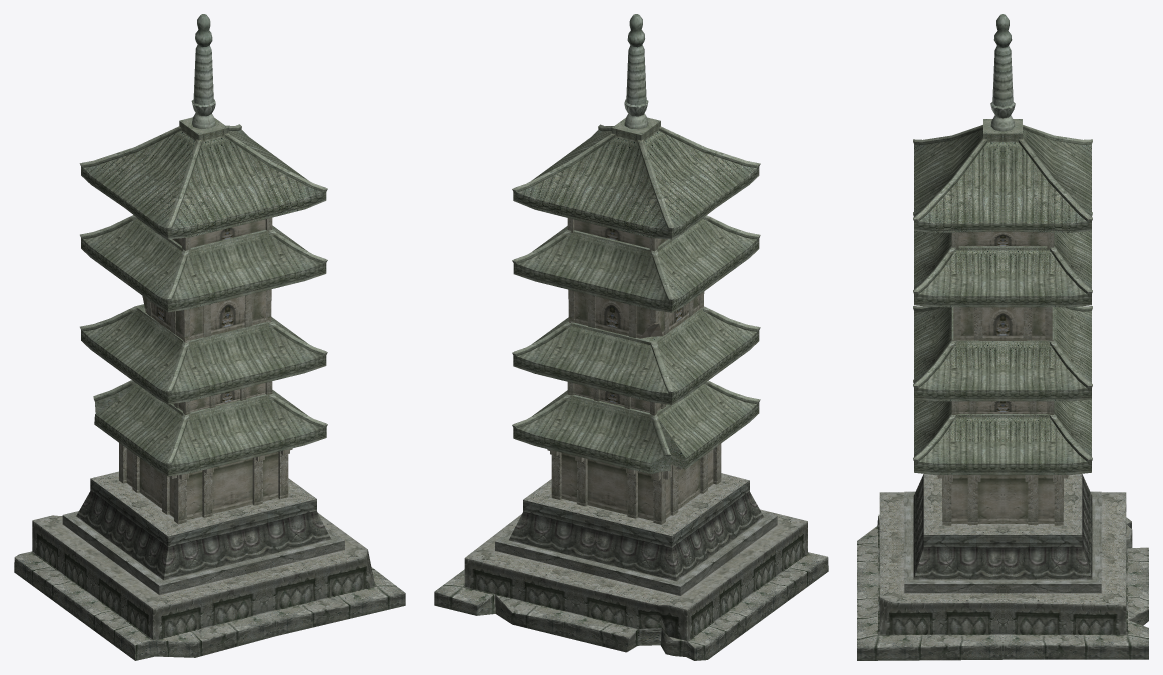
The model's file is Hangzhou_wj_063.FBX.
3 views of the same model, side by side, from view 1: azimuth 30°, elevation 25°; view 2: azimuth 150°, elevation 25°; view 3: azimuth 270°, elevation 25° (orthographic).
Visible parts, largest first — view 1: Box01ta1; view 2: Box01ta1; view 3: Box01ta1.
Part boxes in pixels (x1,y1,x2,y2): Box01ta1: [14, 14, 405, 660]; Box01ta1: [434, 14, 828, 660]; Box01ta1: [857, 14, 1148, 660].
Size of the model in its own units: 597 by 1250 by 568.
